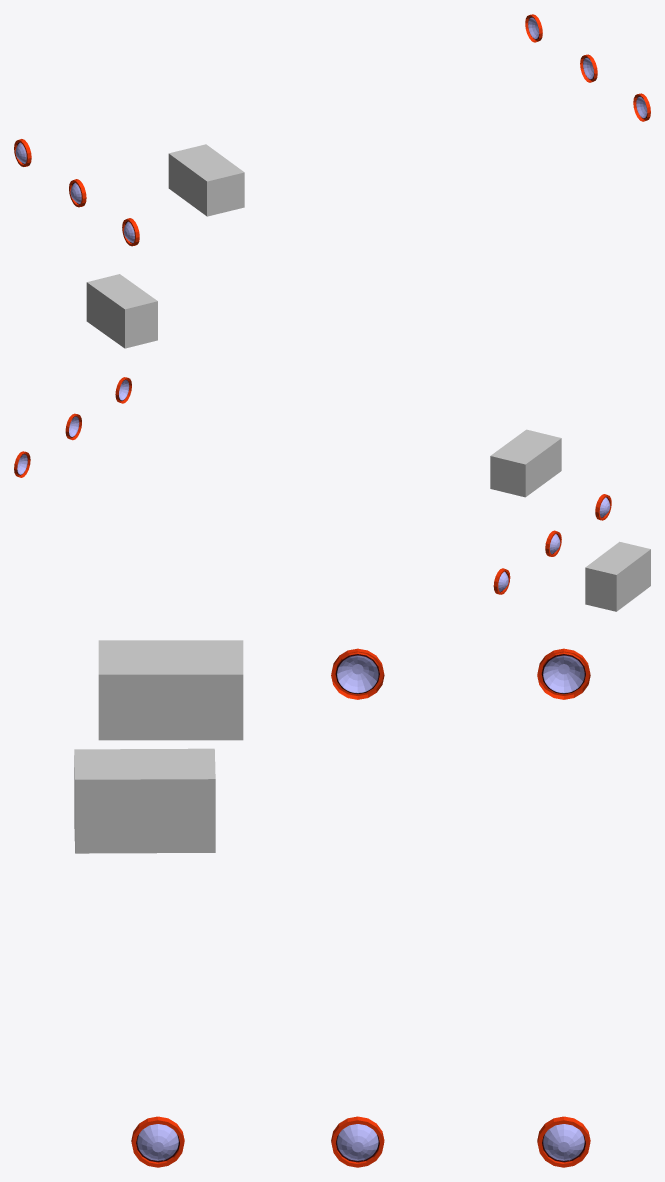
File: cabins.fbx
3 views of the same model, one above another, from view 1: azimuth 30°, elevation 25°; view 2: azimuth 150°, elevation 25°; view 3: azimuth 270°, elevation 25° (orthographic). The views are drawn at different scales.
Visible parts, largest first — view 1: airlock_inner, airlock_outer; view 2: airlock_inner, airlock_outer, window_003, window_005, window, window_001, window_004, window_002; view 3: airlock_outer, airlock_inner, window_002, window_003, window_004, window_005, window_001.
Boxes of the visible parts, box(x1,y1,x2,y2) form: airlock_inner: box(168, 144, 244, 216); airlock_outer: box(86, 274, 157, 348); airlock_inner: box(490, 429, 561, 497); airlock_outer: box(585, 541, 650, 611); window_003: box(14, 451, 30, 477); window_005: box(115, 377, 131, 403); window: box(595, 494, 611, 520); window_001: box(545, 530, 561, 556); window_004: box(65, 413, 81, 440); window_002: box(493, 568, 510, 594); airlock_outer: box(74, 748, 215, 853); airlock_inner: box(98, 640, 243, 740); window_002: box(537, 648, 590, 699); window_003: box(537, 1116, 590, 1167); window_004: box(331, 1116, 384, 1167); window_005: box(131, 1116, 184, 1167); window_001: box(331, 648, 384, 699).
Size of what is drawn, in the model's own units: 12.39 by 3.05 by 5.41.
3 materials, 2 textured.
